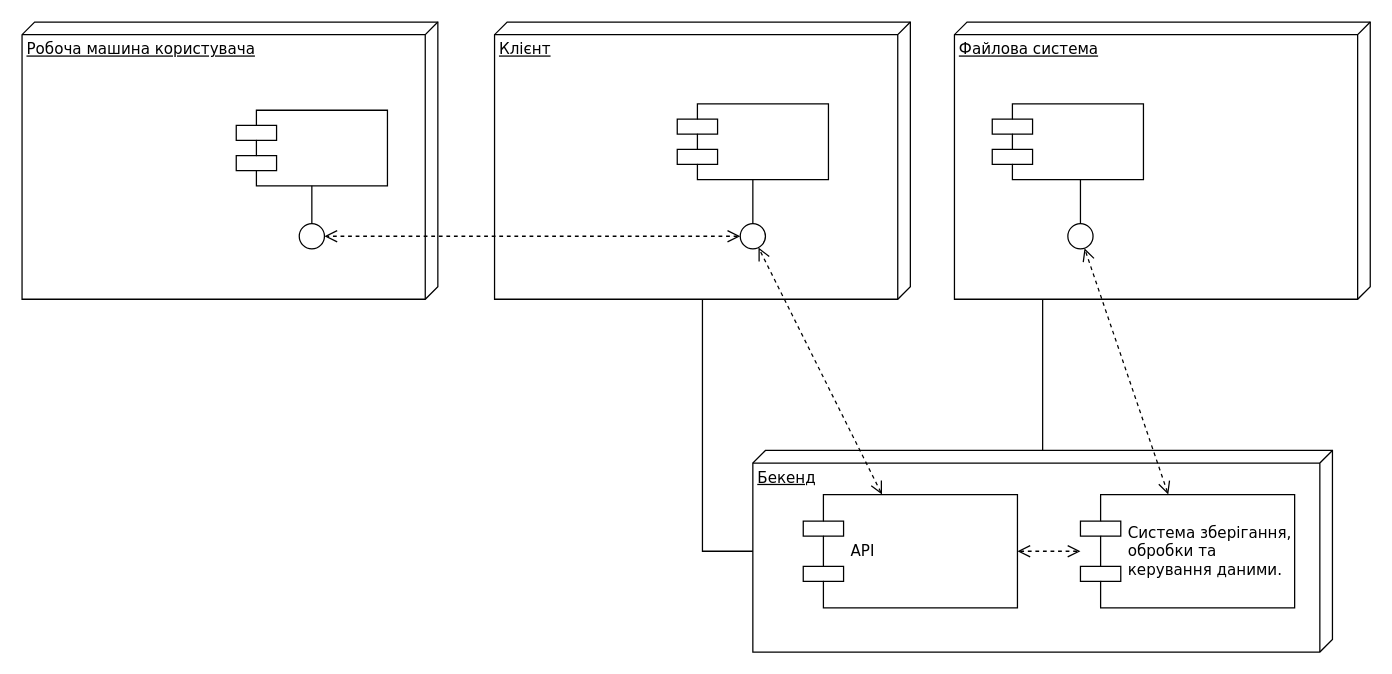
Image size: 1392x674. Some labels were removed from this diagram. The centre of each missing label's shape, as x and y in pixels:
"Веб-браузер" belongs at pixel 311 147.
"Диск" belongs at pixel 1067 141.
"Фронтенд" belongs at pixel 752 141.
